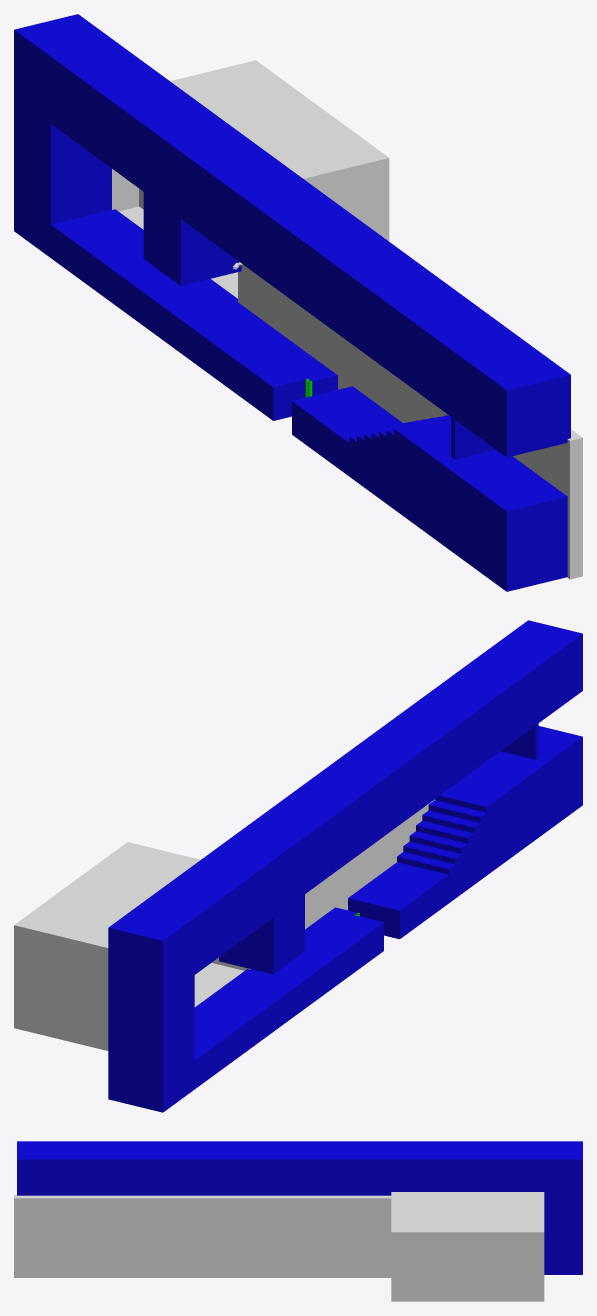
The model's file is Level_3_scene19_colored_bg.fbx.
3 views of the same model, one above another, from view 1: azimuth 30°, elevation 25°; view 2: azimuth 150°, elevation 25°; view 3: azimuth 270°, elevation 25° (orthographic). The views are drawn at different scales.
Visible parts, largest first — view 1: area2, Cube.149, Cube.146, Cube.100, Cube.144; view 2: area2, Cube.144, Cube.149, Cube.146, Cube.100, Cube.145; view 3: area2, Cube.146, Cube.144, Cube.149.
Boxes of the visible parts, box(x1,y1,x2,y2) form: area2: box(14, 14, 570, 591); Cube.149: box(170, 60, 389, 183); Cube.146: box(241, 264, 582, 579); Cube.100: box(143, 192, 241, 285); Cube.144: box(112, 164, 389, 304); area2: box(108, 620, 582, 1112); Cube.144: box(14, 931, 250, 1050); Cube.149: box(14, 842, 200, 953); Cube.146: box(305, 799, 434, 929); Cube.100: box(219, 894, 304, 974); Cube.145: box(25, 963, 243, 1050); area2: box(17, 1141, 582, 1274); Cube.146: box(14, 1194, 391, 1277); Cube.144: box(391, 1236, 544, 1301); Cube.149: box(391, 1192, 544, 1235).
Bounding box in the file's own units: 3248 × 3009 × 13368.
